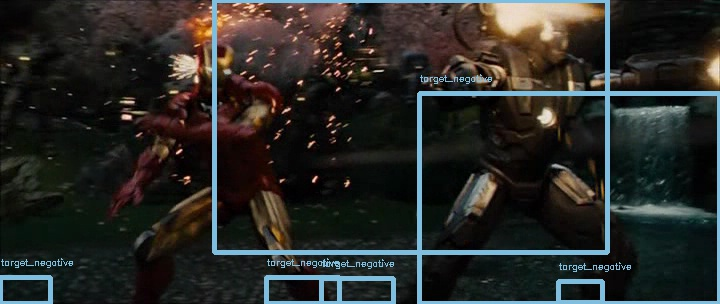person: (189, 37, 242, 94), (188, 37, 241, 94), (190, 37, 243, 94), (189, 36, 242, 93), (189, 38, 242, 95)
target_negative: (458, 155, 717, 295), (392, 170, 640, 304), (358, 138, 600, 249), (469, 244, 695, 281), (517, 137, 584, 210), (25, 160, 60, 269)
